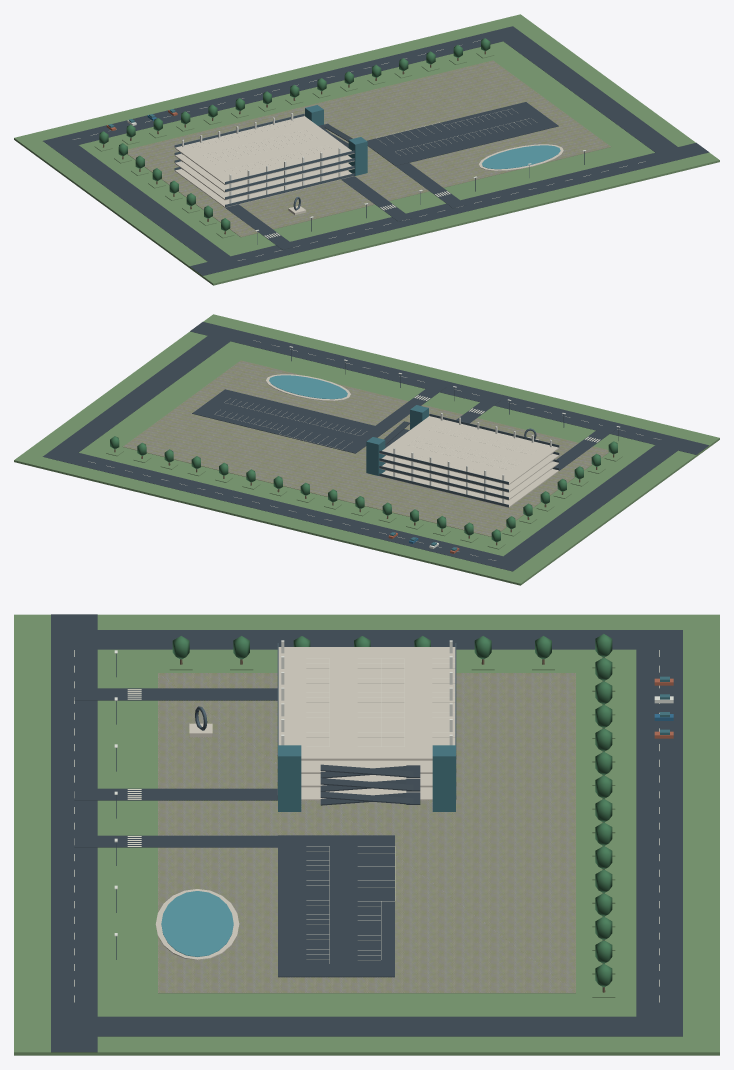
3 renders of one model, top to bottom at view 1: azimuth 30°, elevation 25°; view 2: azimuth 150°, elevation 25°; view 3: azimuth 270°, elevation 25°, orthographic. The views are drawn at different scales.
Visible parts, largest first — view 1: Landscape/grass, Landscape/paving, Landscape/road, Building 1/Floor 4/stone, Building 2/road, Landscape/leaf, Water garden/water, Building 1/Floor 3/stone, Building 1/Floor 2/stone, Building 1/Floor 1/stone, Lift and stair towers/glass, Building 1/Floor 4/metal (+3 smaller); view 2: Landscape/grass, Landscape/paving, Landscape/road, Building 1/Floor 4/stone, Building 2/road, Landscape/leaf, Water garden/water, Building 1/Floor 3/stone, Building 1/Floor 2/stone, Building 1/Floor 1/stone, Lift and stair towers/glass, Building 1/Floor 4/metal (+4 smaller); view 3: Landscape/grass, Landscape/paving, Landscape/road, Building 1/Floor 4/stone, Building 2/road, Landscape/leaf, Water garden/water, Vehicle ramps/road, Lift and stair towers/glass, Bays/4F/line, Building 1/Floor 3/stone, Water garden/stone (+5 smaller).
Boxes of the visible parts, x1,y1,x2,y2 form: Landscape/grass: [14, 14, 719, 285]; Landscape/paving: [127, 60, 610, 237]; Landscape/road: [43, 26, 709, 275]; Building 1/Floor 4/stone: [175, 116, 354, 184]; Building 2/road: [367, 102, 558, 165]; Landscape/leaf: [99, 38, 490, 231]; Water garden/water: [482, 145, 560, 169]; Building 1/Floor 3/stone: [175, 153, 354, 192]; Building 1/Floor 2/stone: [175, 161, 354, 200]; Building 1/Floor 1/stone: [175, 169, 353, 207]; Lift and stair towers/glass: [305, 105, 367, 175]; Building 1/Floor 4/metal: [174, 114, 354, 184]; Landscape/grass: [14, 314, 719, 585]; Landscape/paving: [123, 360, 609, 536]; Landscape/road: [43, 322, 708, 571]; Building 1/Floor 4/stone: [379, 416, 558, 484]; Building 2/road: [192, 389, 388, 453]; Landscape/leaf: [110, 436, 617, 542]; Water garden/water: [269, 375, 347, 399]; Building 1/Floor 3/stone: [379, 453, 558, 492]; Building 1/Floor 2/stone: [379, 461, 558, 500]; Building 1/Floor 1/stone: [379, 469, 558, 507]; Lift and stair towers/glass: [366, 405, 428, 475]; Building 1/Floor 4/metal: [379, 414, 559, 484]; Landscape/grass: [14, 614, 719, 1055]; Landscape/paving: [158, 673, 575, 993]; Landscape/road: [51, 614, 682, 1052]; Building 1/Floor 4/stone: [278, 647, 455, 760]; Building 2/road: [278, 835, 394, 977]; Landscape/leaf: [172, 634, 612, 987]; Water garden/water: [161, 891, 233, 956]; Vehicle ramps/road: [320, 764, 420, 805]; Lift and stair towers/glass: [278, 745, 455, 811]; Bays/4F/line: [306, 658, 454, 746]; Building 1/Floor 3/stone: [301, 760, 432, 773]; Water garden/stone: [155, 889, 239, 960].
Bounding box in the file's own units: 223 × 14.15 × 152.
Materials: 13 (1 with a texture image).
